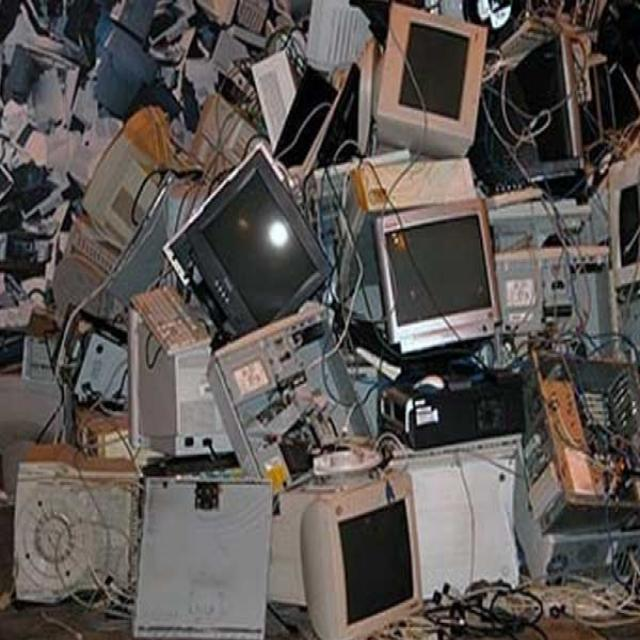hazard: (14, 14, 640, 629)
